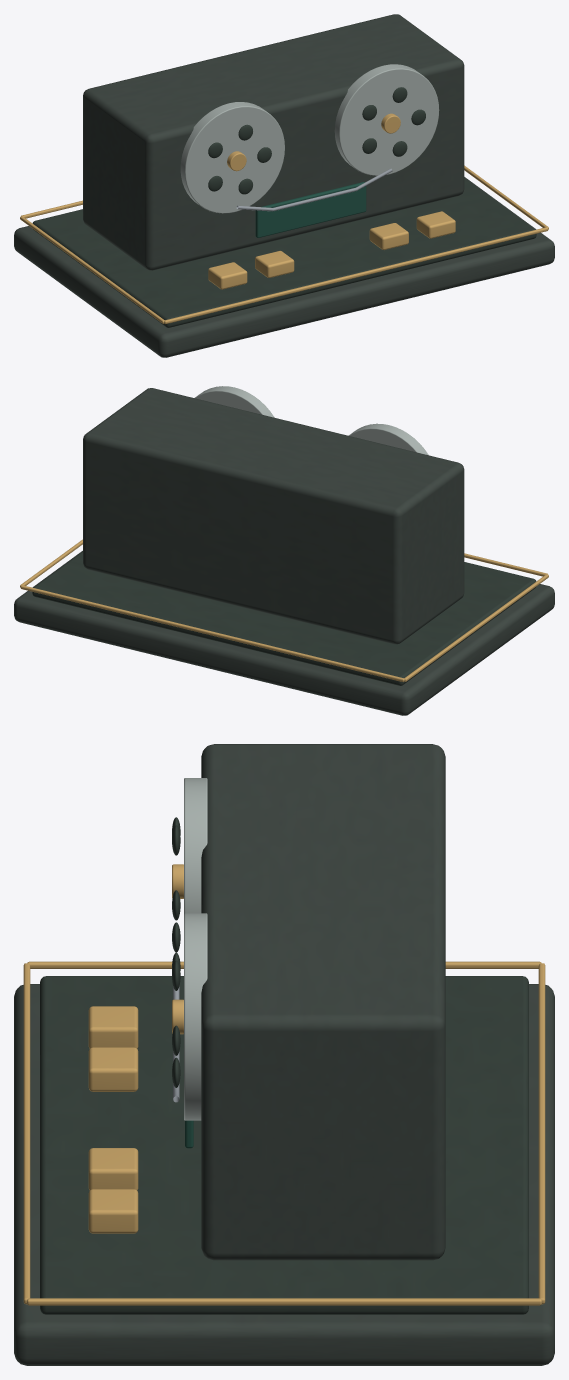
File: memory-recorder.glb
The picture shows the model from 3 angles, top to bottom: view 1: azimuth 30°, elevation 25°; view 2: azimuth 150°, elevation 25°; view 3: azimuth 270°, elevation 25°; orthographic projection. The views are drawn at different scales.
Parts seen in each view (by area): view 1: recorder_housing, felt_insert, display_base, real_recording, echo_recording, letter_slot, brass_rim_Front, play_control, play_control.001, play_control.003, play_control.002, brass_rim_Left (+2 smaller); view 2: recorder_housing, felt_insert, display_base, brass_rim_Back, echo_recording, real_recording, brass_rim_Left; view 3: recorder_housing, felt_insert, display_base, echo_recording, brass_rim_Right, real_recording, brass_rim_Back, brass_rim_Front, play_control.003, play_control.001, play_control, play_control.002 (+1 smaller).
Boxes of the visible parts, bbox=[...] form: recorder_housing: bbox=[83, 14, 464, 270]; felt_insert: bbox=[32, 178, 536, 327]; display_base: bbox=[14, 177, 554, 357]; real_recording: bbox=[180, 102, 284, 213]; echo_recording: bbox=[334, 64, 439, 175]; letter_slot: bbox=[255, 182, 366, 237]; brass_rim_Front: bbox=[164, 227, 548, 323]; play_control: bbox=[208, 262, 247, 289]; play_control.001: bbox=[255, 250, 294, 277]; play_control.003: bbox=[416, 211, 455, 238]; play_control.002: bbox=[369, 223, 408, 249]; brass_rim_Left: bbox=[20, 216, 164, 323]; recorder_housing: bbox=[83, 388, 464, 644]; felt_insert: bbox=[32, 551, 536, 685]; display_base: bbox=[14, 551, 554, 715]; brass_rim_Back: bbox=[20, 585, 404, 681]; echo_recording: bbox=[194, 386, 274, 417]; real_recording: bbox=[348, 423, 428, 455]; brass_rim_Left: bbox=[404, 574, 548, 681]; recorder_housing: bbox=[201, 744, 445, 1260]; felt_insert: bbox=[40, 976, 528, 1314]; display_base: bbox=[14, 984, 554, 1365]; echo_recording: bbox=[184, 913, 207, 1120]; brass_rim_Right: bbox=[27, 1298, 541, 1305]; real_recording: bbox=[184, 778, 207, 913]; brass_rim_Back: bbox=[538, 963, 545, 1304]; brass_rim_Front: bbox=[23, 963, 30, 1304]; play_control.003: bbox=[88, 1189, 138, 1233]; play_control.001: bbox=[88, 1047, 138, 1091]; play_control: bbox=[88, 1006, 138, 1048]; play_control.002: bbox=[88, 1148, 138, 1190].
Bounding box in the file's own units: 0.38 × 0.174 × 0.25.
6 materials, 3 textured.
